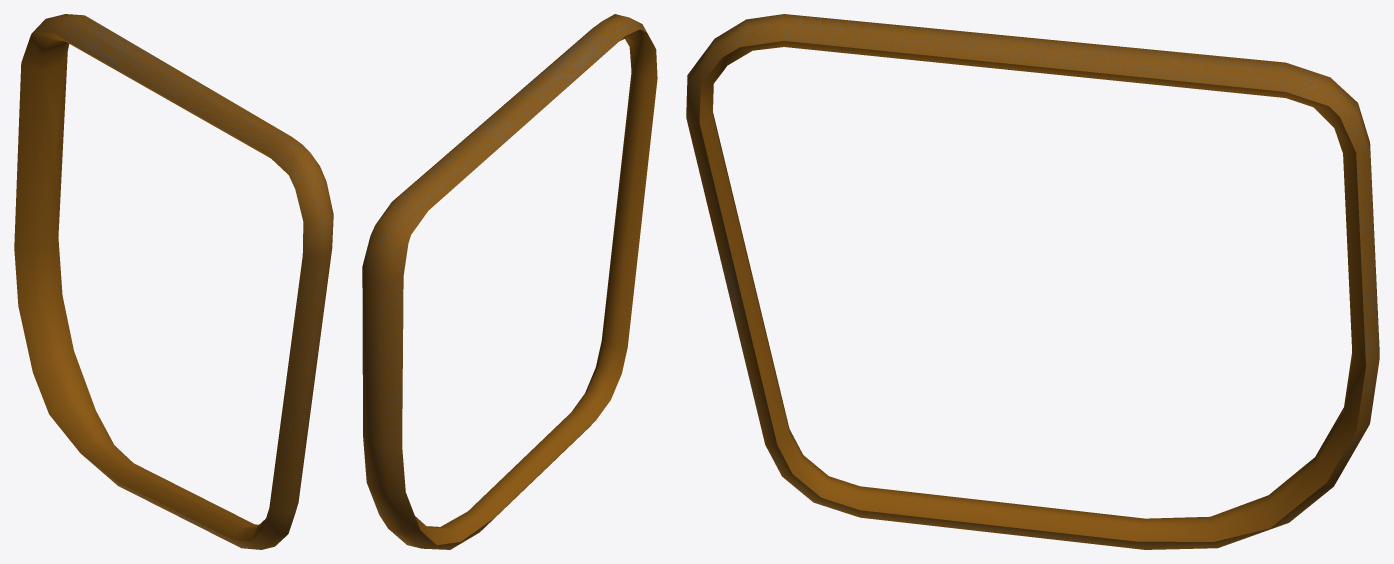
Rendered from original-38.obj.
3 renders of one model, left to right at view 1: azimuth 30°, elevation 25°; view 2: azimuth 150°, elevation 25°; view 3: azimuth 270°, elevation 25°, orthographic. The views are drawn at different scales.
Visible parts, largest first — view 1: Group7/mesh9/mesh9-geometry#mesh9-geometry; view 2: Group7/mesh9/mesh9-geometry#mesh9-geometry; view 3: Group7/mesh9/mesh9-geometry#mesh9-geometry.
Part boxes in pixels (<box>): Group7/mesh9/mesh9-geometry#mesh9-geometry: <box>14,14,333,549</box>; Group7/mesh9/mesh9-geometry#mesh9-geometry: <box>362,14,657,549</box>; Group7/mesh9/mesh9-geometry#mesh9-geometry: <box>686,14,1379,549</box>.
Size of the model in its own units: 0.0587 by 0.5012 by 0.5942.
